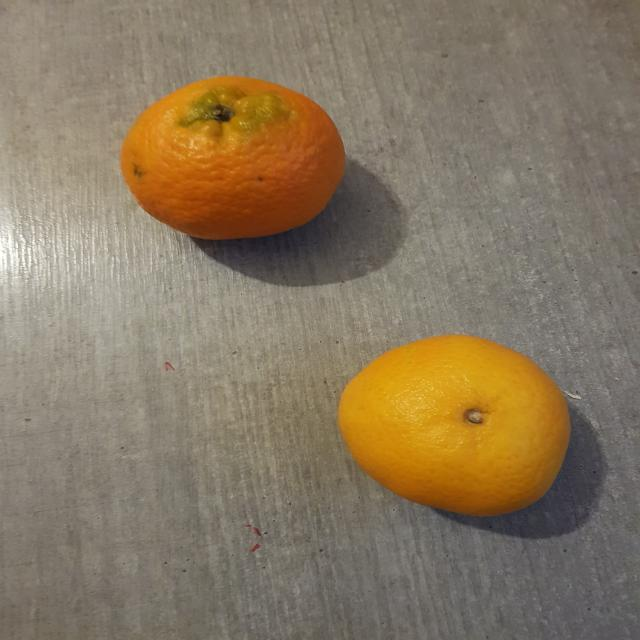Orange: (337, 335, 571, 519), (119, 76, 346, 241)
